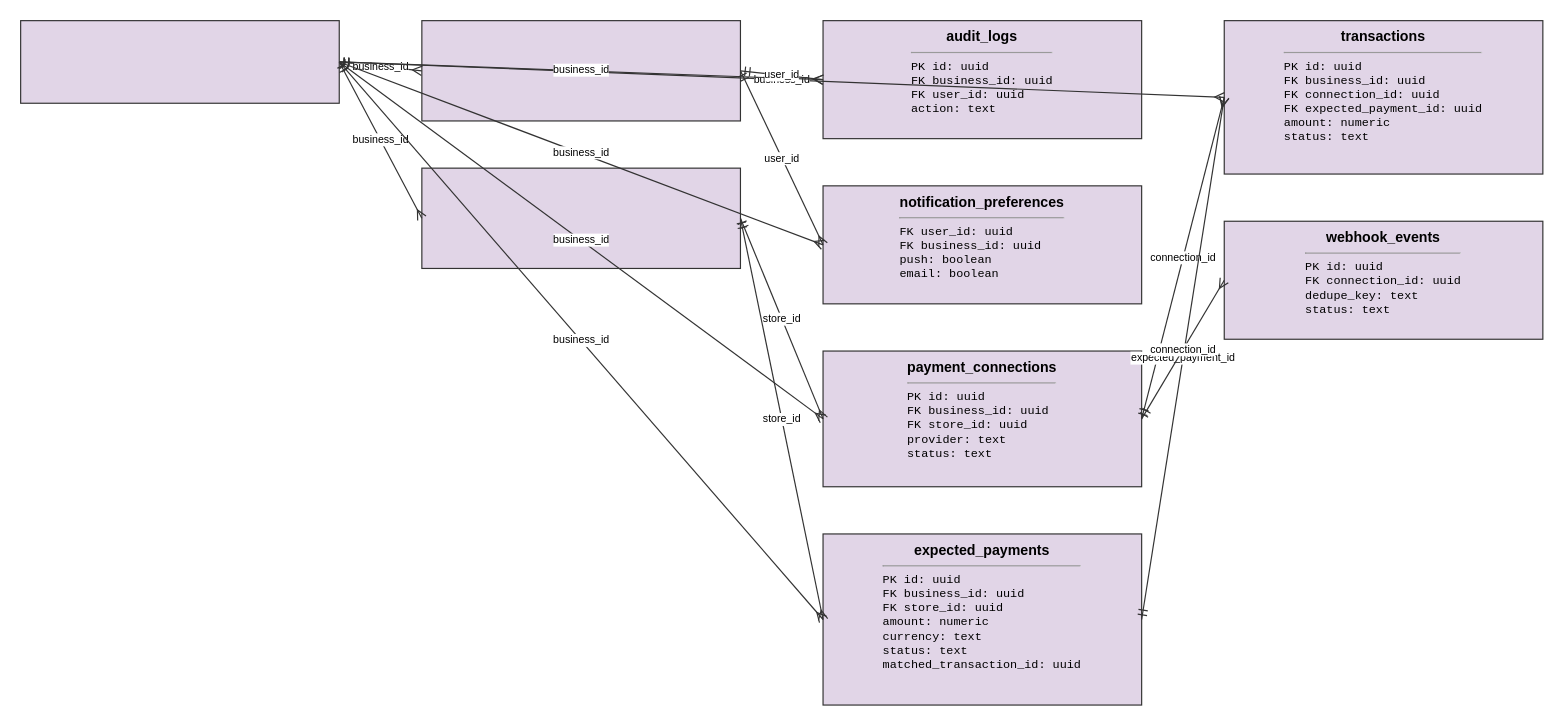
Image size: 1563x726. Some labels were removed from this diagram. Each missing label, with the centre of its shape:
"businesses PK id: uuid name: text" belongs at (x=179, y=61).
"stores PK id: uuid FK business_id: uuid name: text" belongs at (x=580, y=217).
"users PK id: uuid FK business_id: uuid role: text" belongs at (x=580, y=70).
